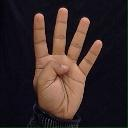hand: (32, 7, 102, 119)
